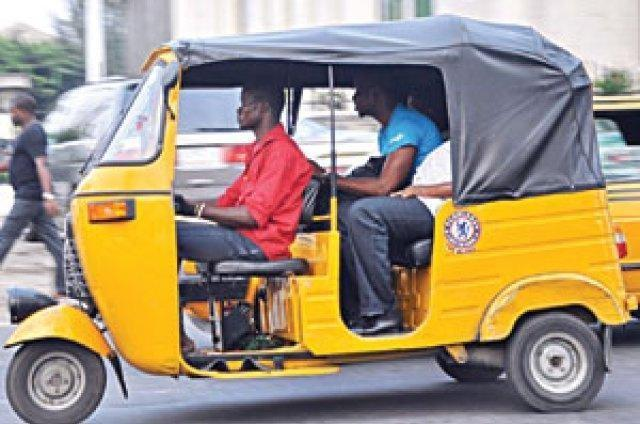keke: (29, 20, 634, 424)
